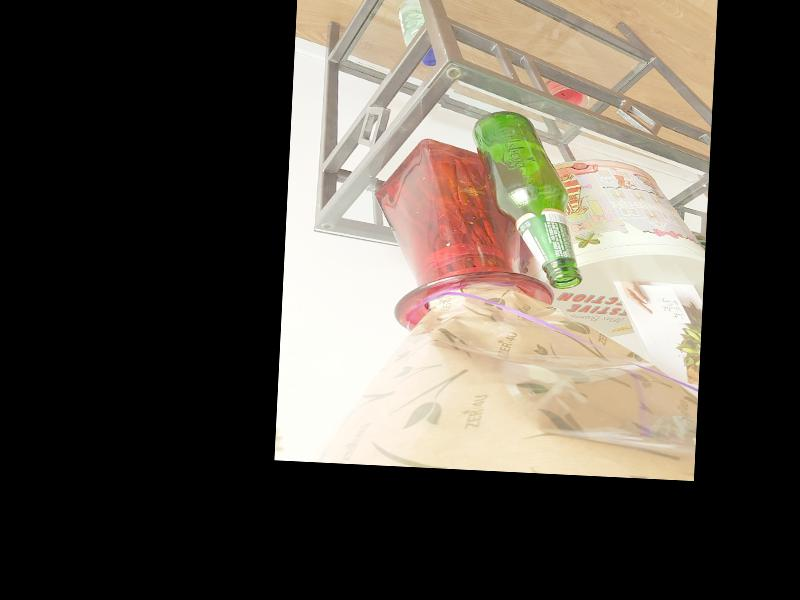Beer: (465, 109, 588, 289)
